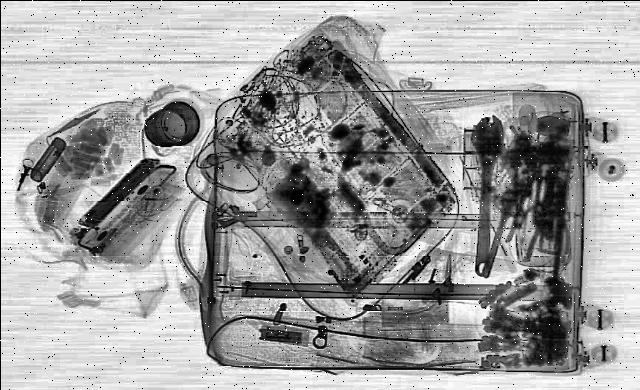Wrench: (463, 113, 503, 275)
